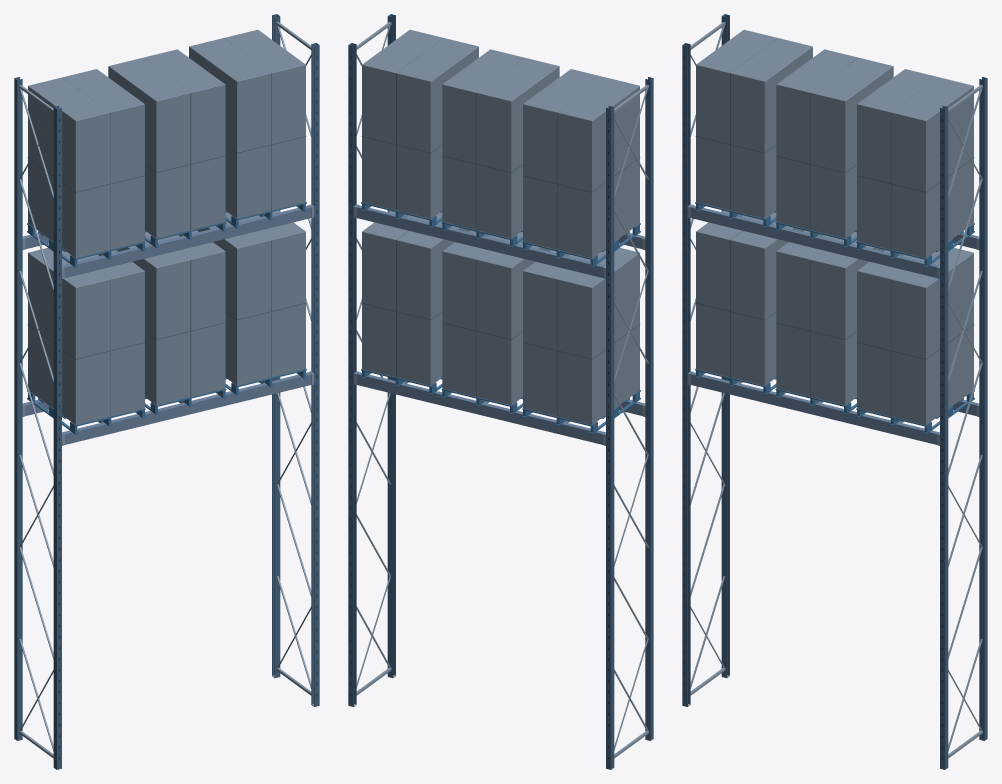
File: SM_GHS_CADRack_A_Pass.fbx
The picture shows the model from 3 angles, left to right: view 1: azimuth 30°, elevation 25°; view 2: azimuth 150°, elevation 25°; view 3: azimuth 330°, elevation 25°; orthographic projection.
Parts seen in each view (by area): view 1: SM_GHS_CADRack_A_Pass; view 2: SM_GHS_CADRack_A_Pass; view 3: SM_GHS_CADRack_A_Pass.
Part boxes in pixels (box(x1,y1,x2,y2)): SM_GHS_CADRack_A_Pass: box(14, 14, 319, 769); SM_GHS_CADRack_A_Pass: box(348, 14, 653, 769); SM_GHS_CADRack_A_Pass: box(682, 14, 987, 769).
Bounding box in the file's own units: 381 × 122 × 915.
